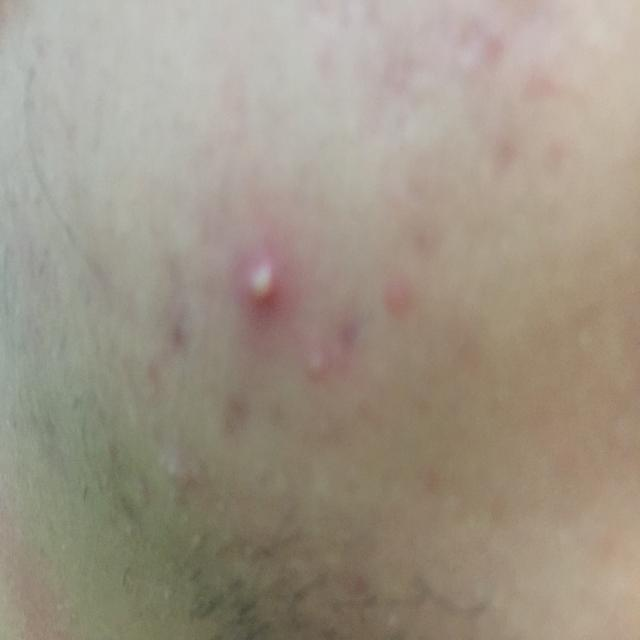blackheads: (236, 240, 285, 312)
